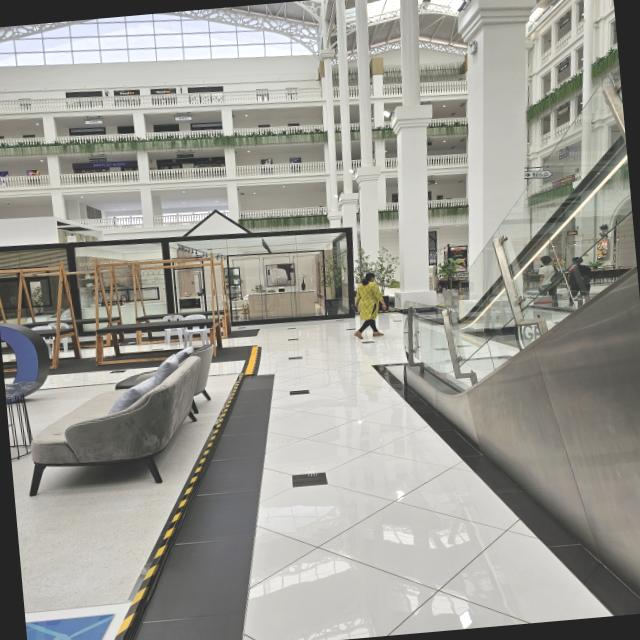footpath: (226, 371, 440, 640)
obstacle: (20, 339, 237, 492)
person: (344, 268, 394, 344)
